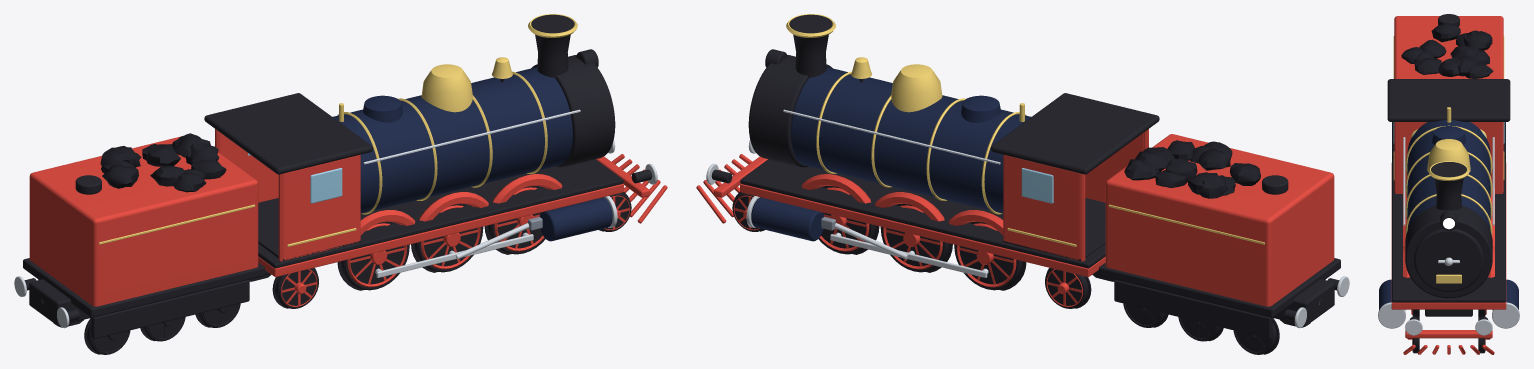
The model's file is locomotive.glb.
3 renders of one model, left to right at view 1: azimuth 30°, elevation 25°; view 2: azimuth 150°, elevation 25°; view 3: azimuth 270°, elevation 25°, orthographic. The views are drawn at different scales.
Parts seen in each view (by area): view 1: locomotive, drv-10, drv-11, trail-1, drv-12, tw-12, tw-11, tw-10, pony-1; view 2: locomotive, drv10, drv11, trail1, drv12, tw12, tw11, tw10, pony1; view 3: locomotive, pony1, pony-1.
Part boxes in pixels (left/top/right/bottom): locomotive: left=14, top=14, right=667, bottom=338; drv-10: left=337, top=221, right=409, bottom=290; drv-11: left=411, top=203, right=483, bottom=272; trail-1: left=272, top=268, right=318, bottom=308; drv-12: left=484, top=186, right=545, bottom=254; tw-12: left=84, top=318, right=130, bottom=354; tw-11: left=140, top=317, right=185, bottom=341; tw-10: left=195, top=303, right=240, bottom=327; pony-1: left=599, top=192, right=631, bottom=231; locomotive: left=696, top=14, right=1349, bottom=338; drv10: left=954, top=221, right=1026, bottom=290; drv11: left=880, top=203, right=952, bottom=272; trail1: left=1045, top=268, right=1091, bottom=308; drv12: left=818, top=186, right=879, bottom=254; tw12: left=1233, top=318, right=1279, bottom=354; tw11: left=1178, top=317, right=1223, bottom=341; tw10: left=1123, top=303, right=1168, bottom=327; pony1: left=732, top=192, right=764, bottom=231; locomotive: left=1378, top=14, right=1519, bottom=354; pony1: left=1478, top=317, right=1490, bottom=354; pony-1: left=1407, top=317, right=1419, bottom=354.
Size of the model in its own units: 13.18 by 4.2 by 3.24.
Materials: 1 (1 with a texture image).
